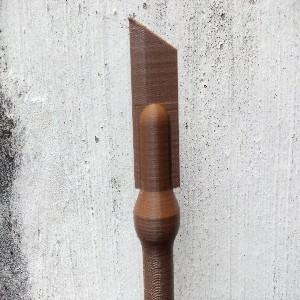cutter: (126, 16, 182, 300)
